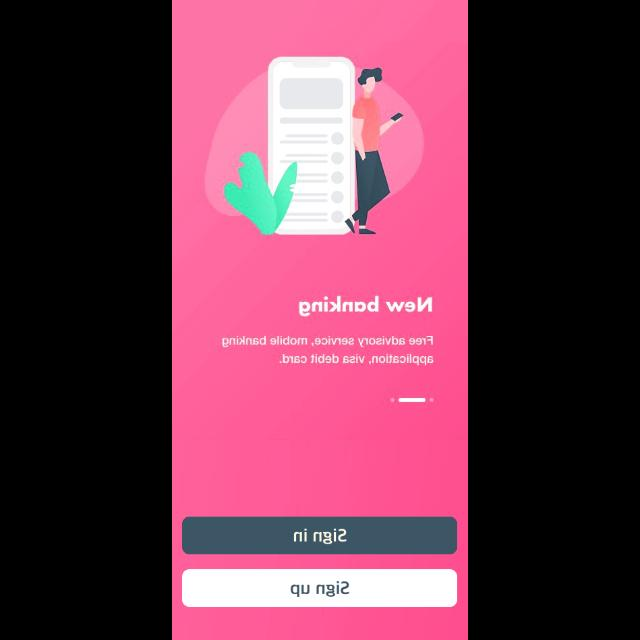image: (204, 56, 423, 235)
pageindicator: (389, 398, 433, 404)
text: (222, 336, 432, 366), (298, 296, 432, 318)
textbutton: (182, 569, 456, 607), (182, 517, 456, 555)
